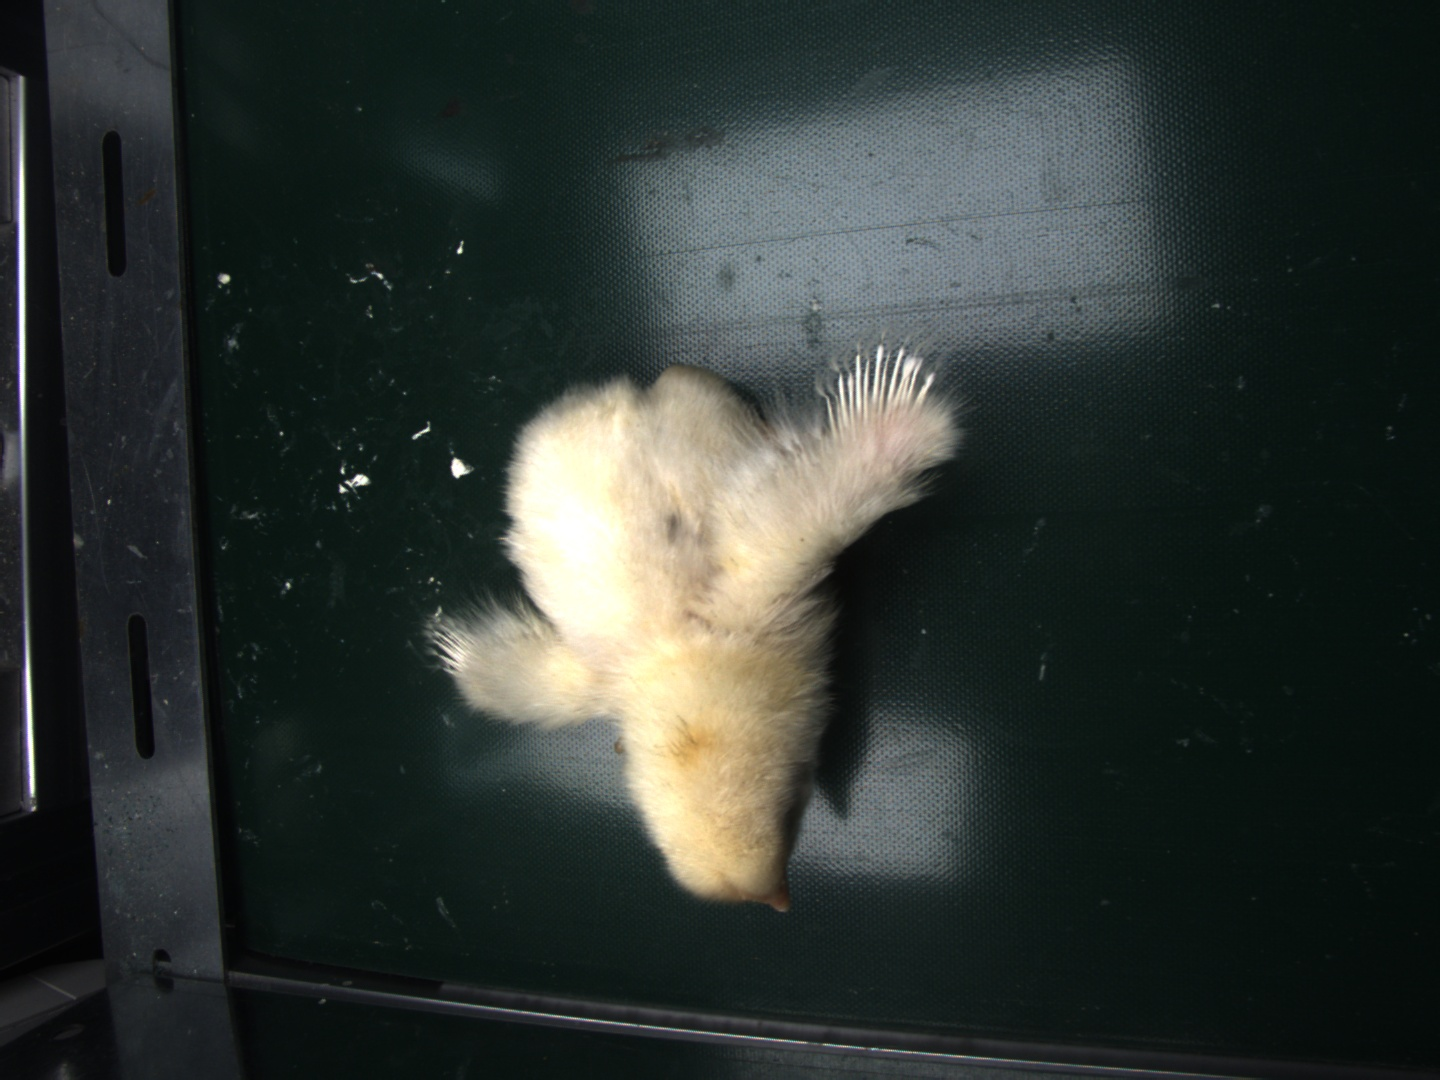male: (825, 344, 938, 430)
